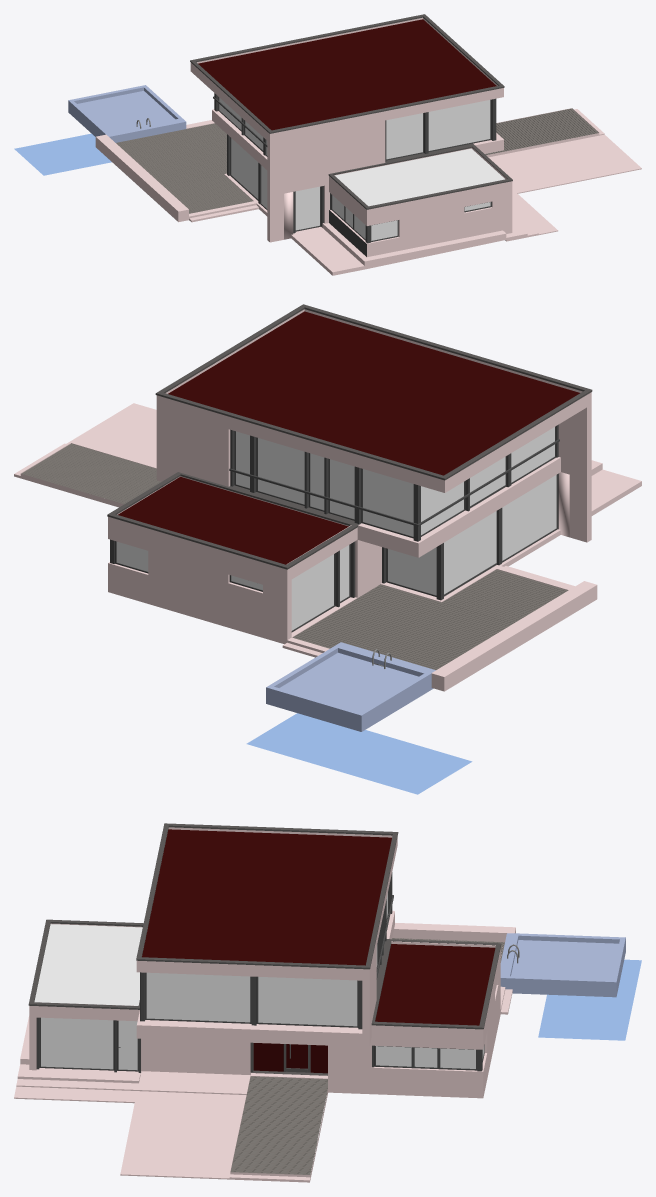
The model's file is ModernVillaHQ.blend.glb.
3 views of the same model, one above another, from view 1: azimuth 30°, elevation 25°; view 2: azimuth 150°, elevation 25°; view 3: azimuth 270°, elevation 25° (orthographic). The views are drawn at different scales.
Parts seen in each view (by area): view 1: Walls, Guardrail.001, Window.012, Planks, Cube.007, Weatherboard, Cube.011, SlidingDoorLiving; view 2: Walls, Window.012, Planks, Cube.007, Cube.011, Weatherboard, Guardrail.001, SlidingDoorLiving, Guardrail, SlidingDoorBedroom; view 3: Walls, Guardrail.001, Window.012, Cube.007, Weatherboard, Cube.011, MainDoorFrame, MainDoor.
Boxes of the visible parts, x1,y1,x2,y2 form: Walls: (95,17,641,275); Guardrail.001: (328,108,604,256); Window.012: (214,93,496,233); Planks: (116,123,253,213); Cube.007: (68,85,186,142); Weatherboard: (190,14,504,133); Cube.011: (14,133,111,175); SlidingDoorLiving: (230,137,258,200); Walls: (66,309,641,691); Window.012: (110,424,558,632); Planks: (292,569,567,669); Cube.007: (266,642,435,731); Cube.011: (246,713,472,794); Weatherboard: (107,304,592,569); Guardrail.001: (14,443,161,507); SlidingDoorLiving: (444,511,496,595); Guardrail: (229,439,559,526); SlidingDoorBedroom: (470,456,506,507); Walls: (14,827,515,1179); Guardrail.001: (28,919,328,1182); Window.012: (140,872,484,1071); Cube.007: (500,933,625,997); Weatherboard: (136,823,501,1029); Cube.011: (538,959,641,1040); MainDoorFrame: (250,1042,327,1075); MainDoor: (286,1044,307,1068).
Bounding box in the file's own units: 25.67 × 7.96 × 25.79.
